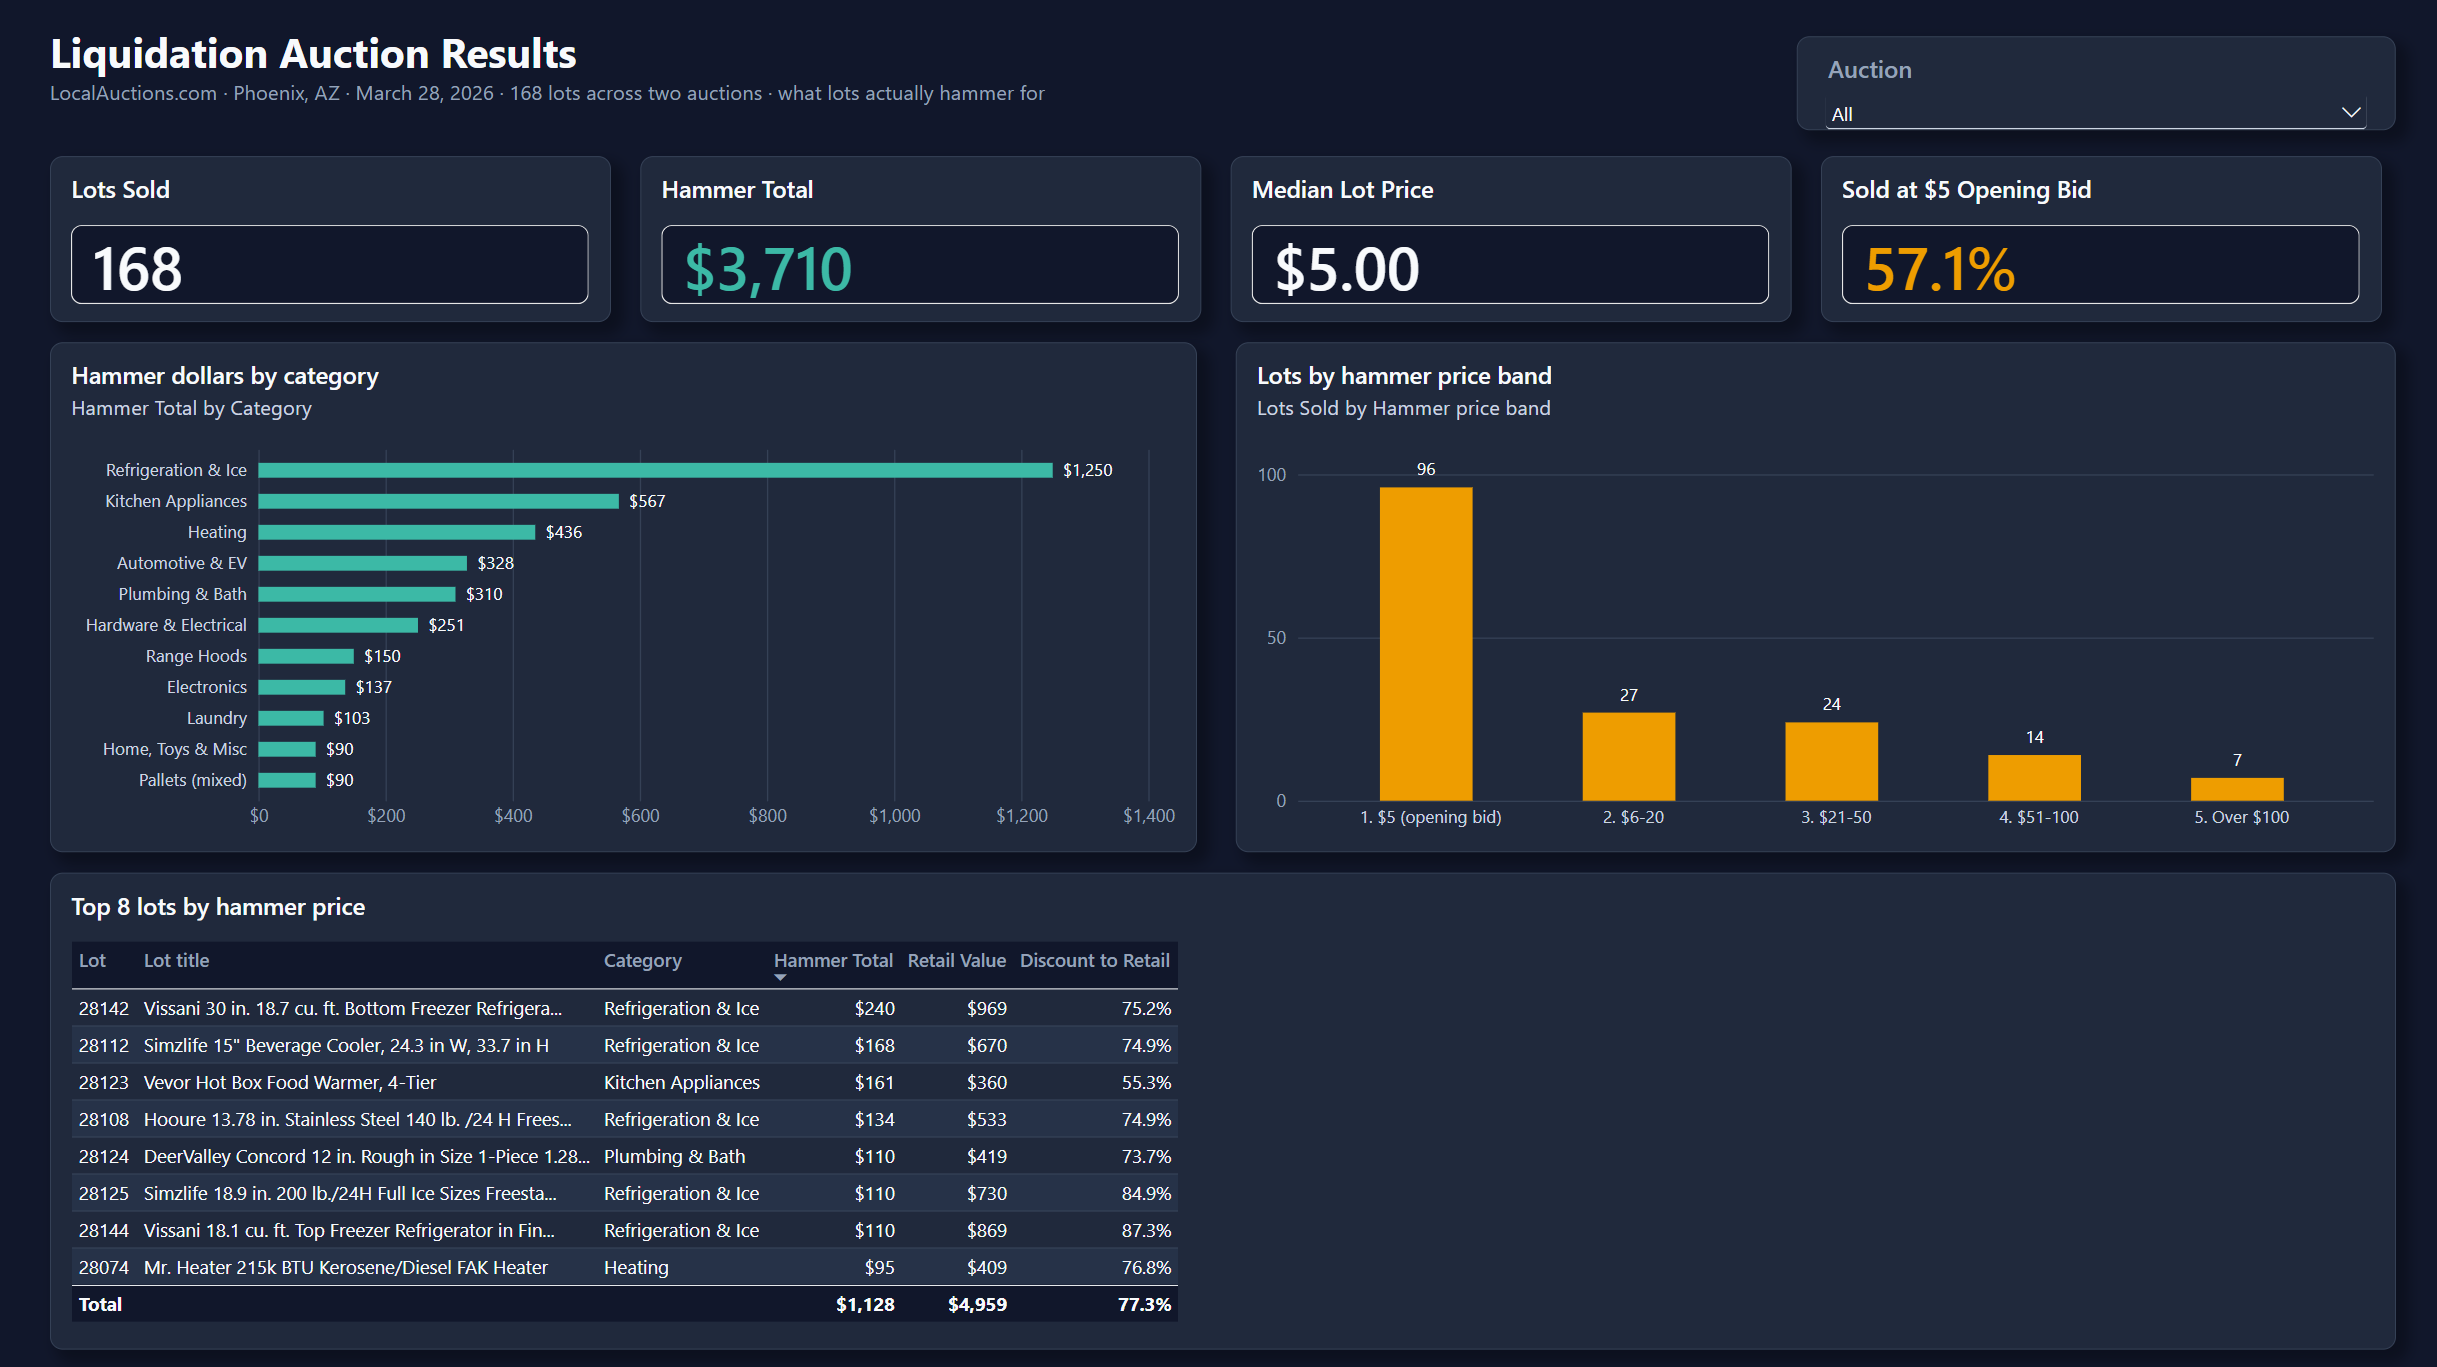

This screenshot's page, from the dashboard's own definition file:
{"tool":"powerbi","page":{"name":"Auction Overview","canvas":[1920,1080],"ordinal":0},"visuals":[{"type":"textbox","box":[40,20,1340,84],"z":100},{"type":"slicer","fields":{"Values":["FactLots.auction_name"]},"box":[1410,30,470,74],"z":150},{"type":"cardVisual","title":"Lots Sold","fields":{"Data":["_Measures.Lots Sold"]},"box":[40,124,440,170],"z":200},{"type":"cardVisual","title":"Hammer Total","fields":{"Data":["_Measures.Hammer Total"]},"box":[503,124,440,170],"z":200},{"type":"cardVisual","title":"Median Lot Price","fields":{"Data":["_Measures.Median Hammer"]},"box":[966,124,440,170],"z":200},{"type":"cardVisual","title":"Sold at $5 Opening Bid","fields":{"Data":["_Measures.Opening Bid Share"]},"box":[1429,124,440,170],"z":200},{"type":"clusteredBarChart","title":"Hammer dollars by category","fields":{"Category":["FactLots.category"],"Y":["_Measures.Hammer Total"]},"box":[40,324,900,340],"z":300},{"type":"clusteredColumnChart","title":"Lots by hammer price band","fields":{"Category":["FactLots.price_band"],"Y":["_Measures.Lots Sold"]},"box":[970,324,910,340],"z":300},{"type":"tableEx","title":"Top 8 lots by hammer price","fields":{"Values":["FactLots.lot","FactLots.Lot Title","FactLots.category","_Measures.Hammer Total","_Measures.Retail Value","_Measures.Discount to Retail"]},"box":[40,694,1840,346],"z":300}]}

Visuals, with their boxes in screenshot pixels (x1, y1, x2, y2), scaled from the page's 1920x1080 canvas onto the 2437x1367 screenshot:
textbox: [x1=51, y1=25, x2=1752, y2=132]
slicer - FactLots.auction_name: [x1=1790, y1=38, x2=2386, y2=132]
"Lots Sold" cardVisual: [x1=51, y1=157, x2=609, y2=372]
"Hammer Total" cardVisual: [x1=638, y1=157, x2=1197, y2=372]
"Median Lot Price" cardVisual: [x1=1226, y1=157, x2=1785, y2=372]
"Sold at $5 Opening Bid" cardVisual: [x1=1814, y1=157, x2=2372, y2=372]
"Hammer dollars by category" clusteredBarChart: [x1=51, y1=410, x2=1193, y2=840]
"Lots by hammer price band" clusteredColumnChart: [x1=1231, y1=410, x2=2386, y2=840]
"Top 8 lots by hammer price" tableEx: [x1=51, y1=878, x2=2386, y2=1316]
